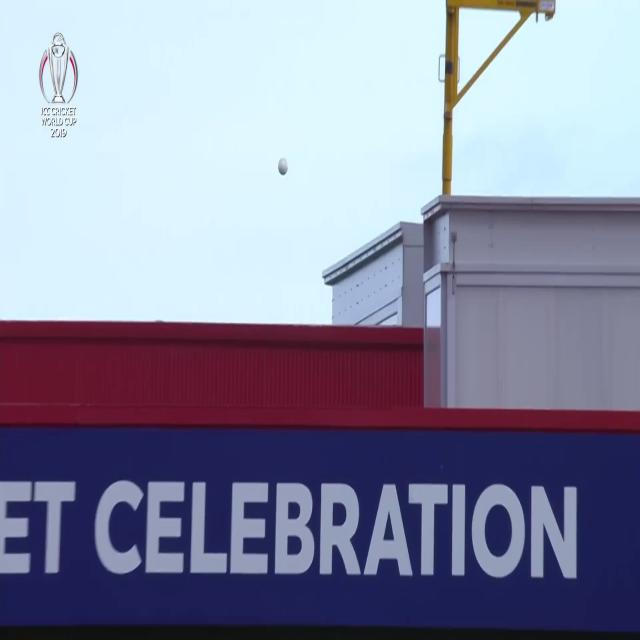ball: (276, 152, 292, 180)
